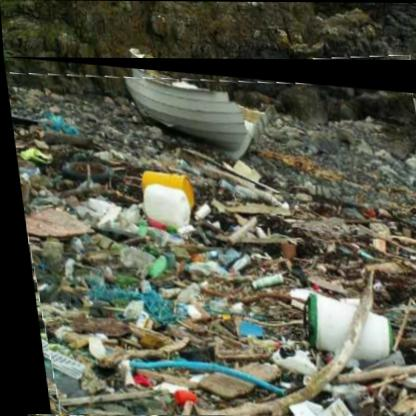Garbage: (3, 58, 416, 416)
